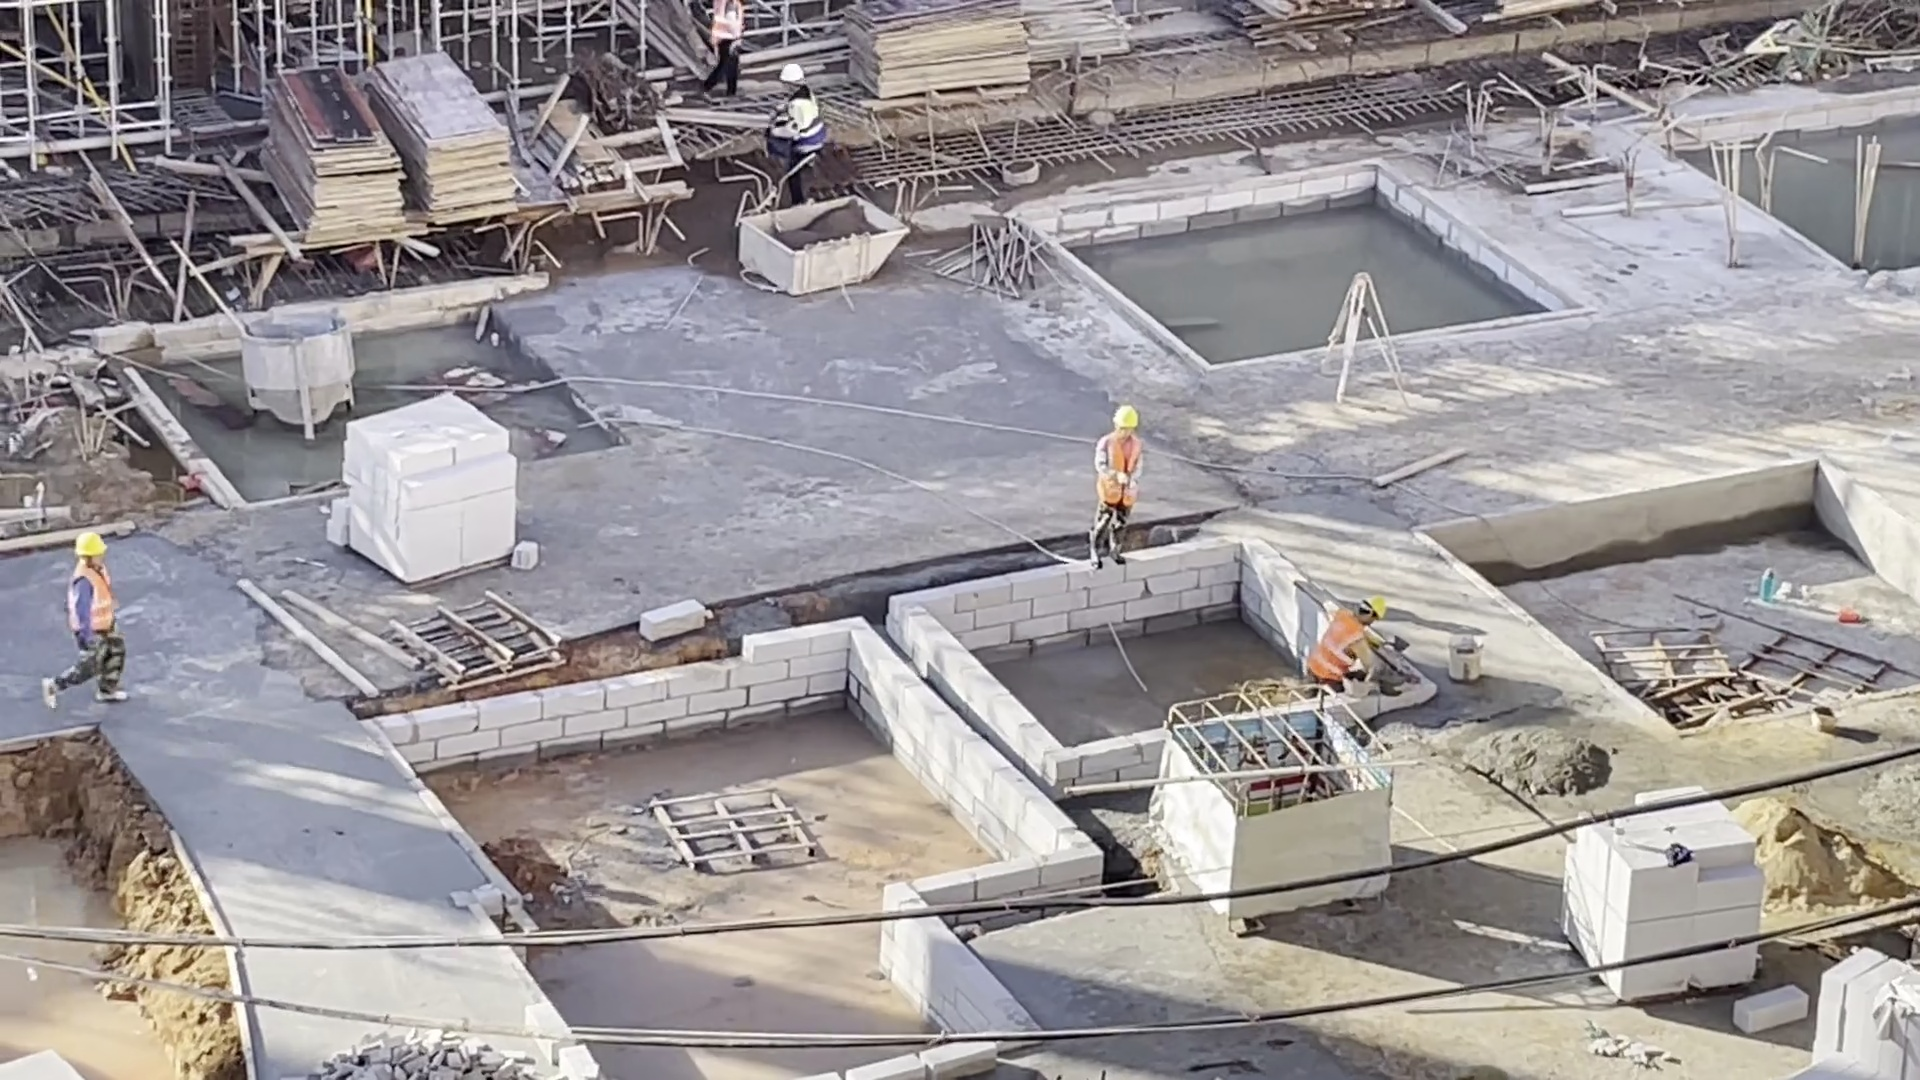board: (371, 52, 528, 231), (256, 65, 407, 245), (836, 1, 1034, 104)
brick: (334, 383, 538, 587), (1558, 839, 1772, 942), (1779, 945, 1920, 1073)
helmet: (69, 529, 112, 558), (1109, 406, 1142, 431), (1362, 595, 1392, 620), (780, 63, 807, 84)
hopper: (736, 191, 913, 300), (232, 305, 356, 441)
person: (38, 527, 137, 711), (1085, 406, 1148, 567), (1300, 594, 1396, 685), (769, 65, 826, 205), (691, 1, 758, 104)
vest: (1306, 609, 1364, 682), (1096, 431, 1143, 508), (67, 563, 117, 632), (785, 90, 826, 153), (708, 1, 745, 46)
